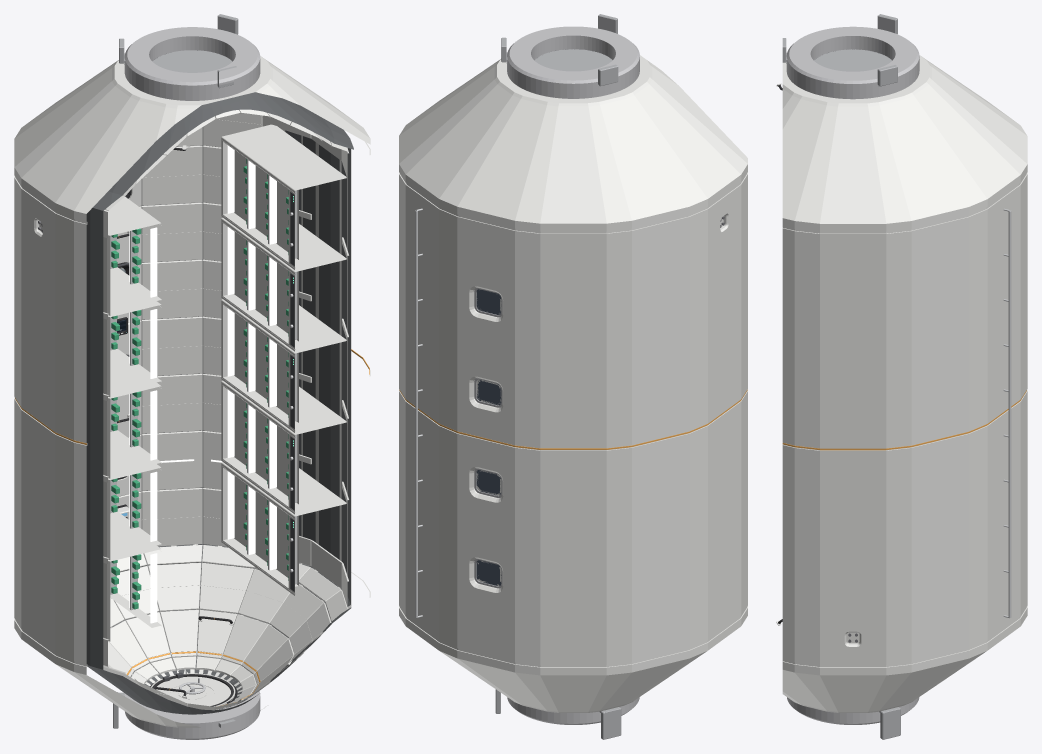
File: ax_station_10_greenhouse_cutaway.glb
3 views of the same model, side by side, from view 1: azimuth 30°, elevation 25°; view 2: azimuth 150°, elevation 25°; view 3: azimuth 270°, elevation 25° (orthographic). The views are drawn at different scales.
Parts seen in each view (by area): view 1: ext_pressure_hull, pressure_vessel, rack_5_body, ext_port_top, rack_1_body, rack_3_body, rack_2_body, rack_4_body, panel_b9_f03, panel_b7_f03, panel_b6_f03, panel_b8_f03 (+37 smaller); view 2: ext_pressure_hull, ext_port_top, ext_window_glass, ext_handrails, ext_hatch_door_2, ext_port_bottom, ext_window_frames, ext_port_top_petals, ext_port_bottom_petals, ext_orange_stripes; view 3: ext_pressure_hull, ext_port_top, ext_handrails, ext_hatch_door_2, ext_port_bottom, ext_port_top_petals, ext_port_bottom_petals, ext_orange_stripes.
Part boxes in pixels (x1=…): ext_pressure_hull: x1=14, y1=56, x2=370, y2=727; pressure_vessel: x1=86, y1=50, x2=353, y2=714; rack_5_body: x1=221, y1=124, x2=346, y2=269; ext_port_top: x1=124, y1=27, x2=260, y2=100; rack_1_body: x1=221, y1=462, x2=346, y2=595; rack_3_body: x1=221, y1=299, x2=346, y2=432; rack_2_body: x1=221, y1=380, x2=346, y2=514; rack_4_body: x1=221, y1=218, x2=346, y2=351; panel_b9_f03: x1=141, y1=202, x2=202, y2=262; panel_b7_f03: x1=141, y1=316, x2=202, y2=375; panel_b6_f03: x1=141, y1=373, x2=202, y2=433; panel_b8_f03: x1=141, y1=259, x2=202, y2=319; ext_pressure_hull: x1=399, y1=55, x2=747, y2=712; ext_port_top: x1=507, y1=26, x2=639, y2=98; ext_window_glass: x1=476, y1=289, x2=501, y2=585; ext_handrails: x1=415, y1=208, x2=422, y2=617; ext_hatch_door_2: x1=534, y1=49, x2=612, y2=71; ext_port_bottom: x1=507, y1=697, x2=639, y2=724; ext_window_frames: x1=474, y1=288, x2=502, y2=588; ext_port_top_petals: x1=501, y1=14, x2=618, y2=86; ext_port_bottom_petals: x1=495, y1=689, x2=621, y2=739; ext_orange_stripes: x1=399, y1=389, x2=747, y2=449; ext_pressure_hull: x1=782, y1=55, x2=1027, y2=712; ext_port_top: x1=786, y1=26, x2=919, y2=99; ext_handrails: x1=1003, y1=208, x2=1011, y2=618; ext_hatch_door_2: x1=814, y1=49, x2=892, y2=71; ext_port_bottom: x1=787, y1=697, x2=919, y2=724; ext_port_top_petals: x1=782, y1=14, x2=897, y2=86; ext_port_bottom_petals: x1=879, y1=707, x2=900, y2=739; ext_orange_stripes: x1=782, y1=390, x2=1026, y2=450.
Bounding box in the file's own units: 4.2 × 8.87 × 3.02.
Materials: 32 (1 with a texture image).
